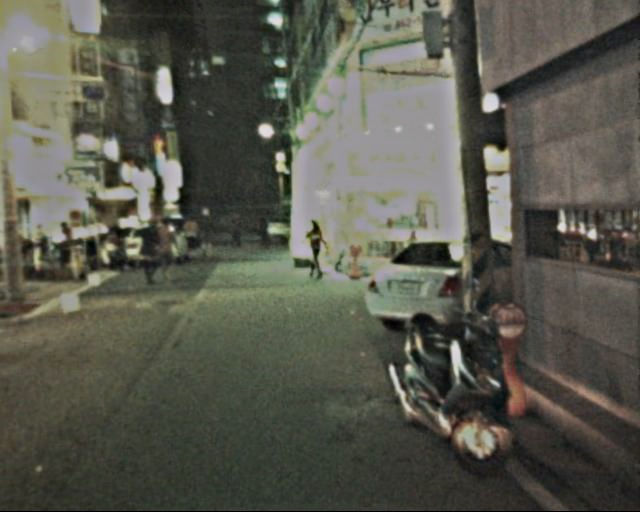person: (149, 217, 181, 284), (300, 217, 330, 280), (135, 223, 162, 286), (192, 208, 216, 256), (178, 211, 199, 259), (220, 208, 240, 248), (248, 212, 265, 251)
